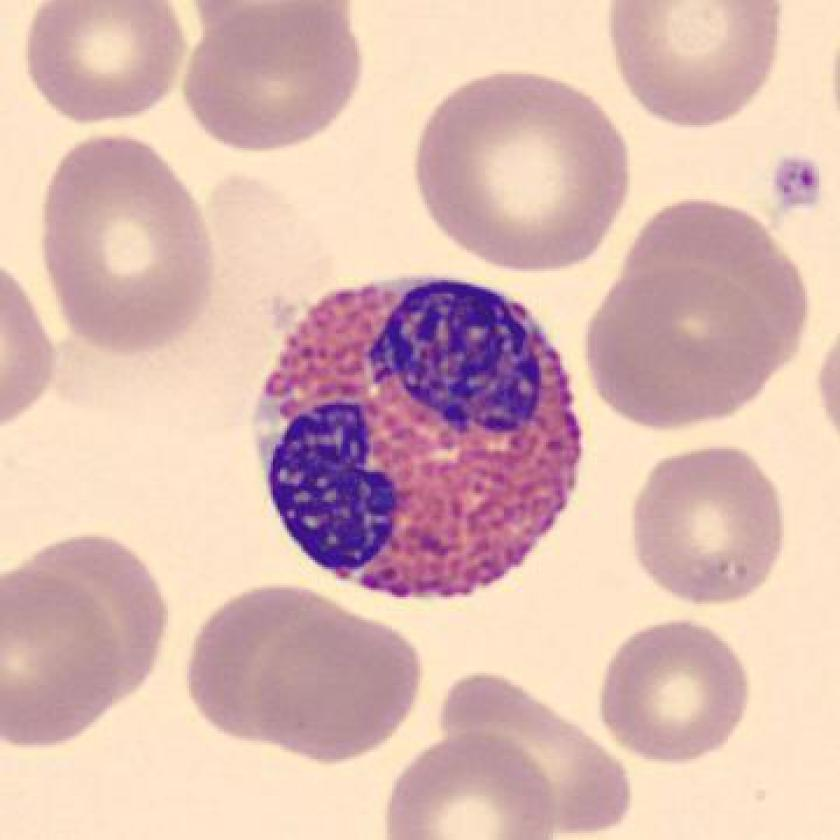eosinophil: (235, 260, 599, 617)
